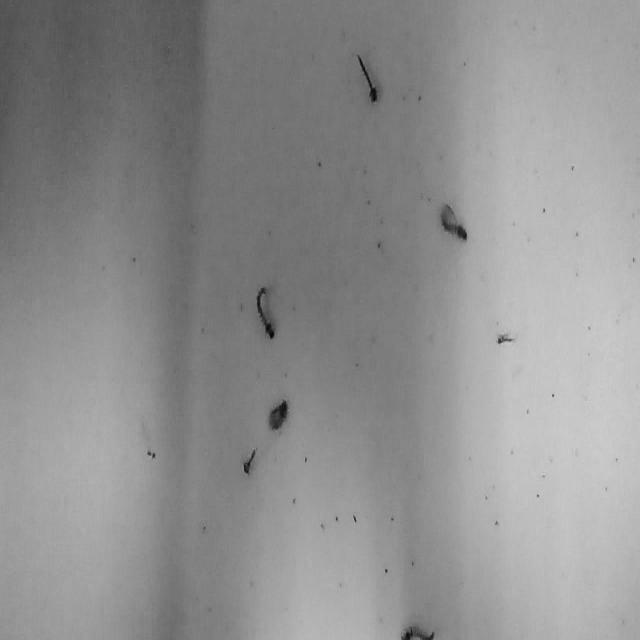larvas: (254, 284, 276, 340), (439, 200, 468, 241), (356, 51, 378, 105), (268, 398, 288, 430), (400, 625, 434, 639), (242, 446, 256, 474), (497, 333, 516, 345)
